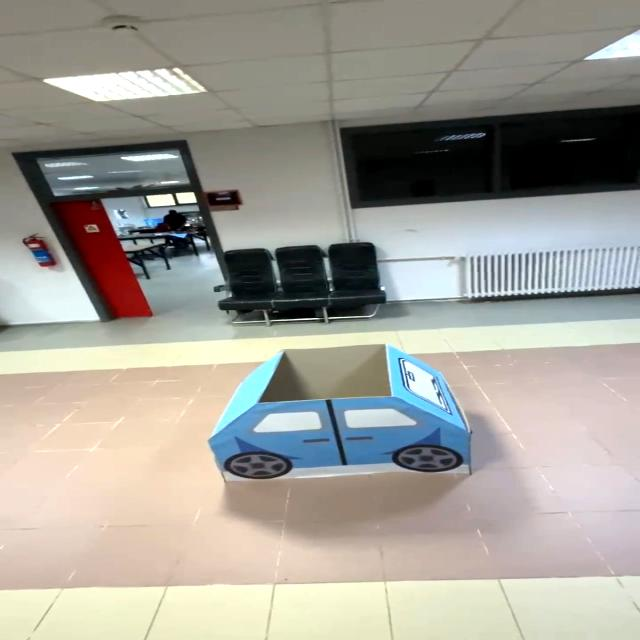blue_car: (192, 338, 501, 500)
